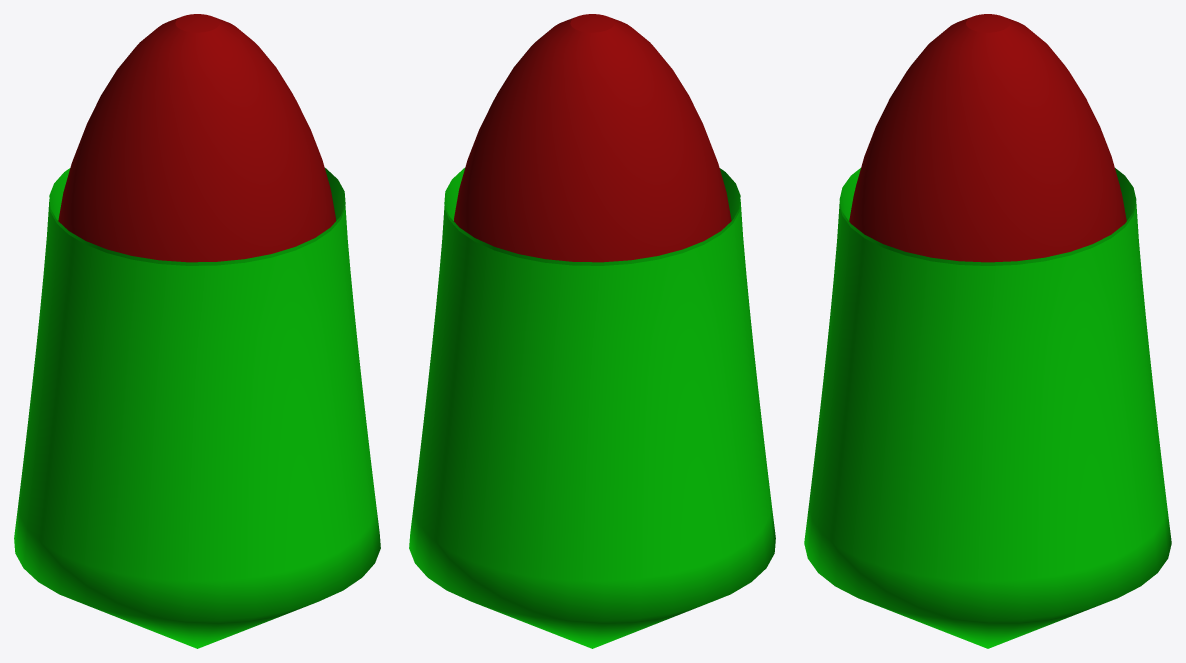
Rendered from BluePinkgill_Growth.glb.
3 views of the same model, side by side, from view 1: azimuth 30°, elevation 25°; view 2: azimuth 150°, elevation 25°; view 3: azimuth 270°, elevation 25° (orthographic).
Parts seen in each view (by area): view 1: BluePinkgill; view 2: BluePinkgill; view 3: BluePinkgill.
Part boxes in pixels (x1,y1,x2,y2): BluePinkgill: (14,14,380,648); BluePinkgill: (409,14,775,648); BluePinkgill: (804,14,1171,648).
Bounding box in the file's own units: 0.0104 × 0.0197 × 0.0104.
